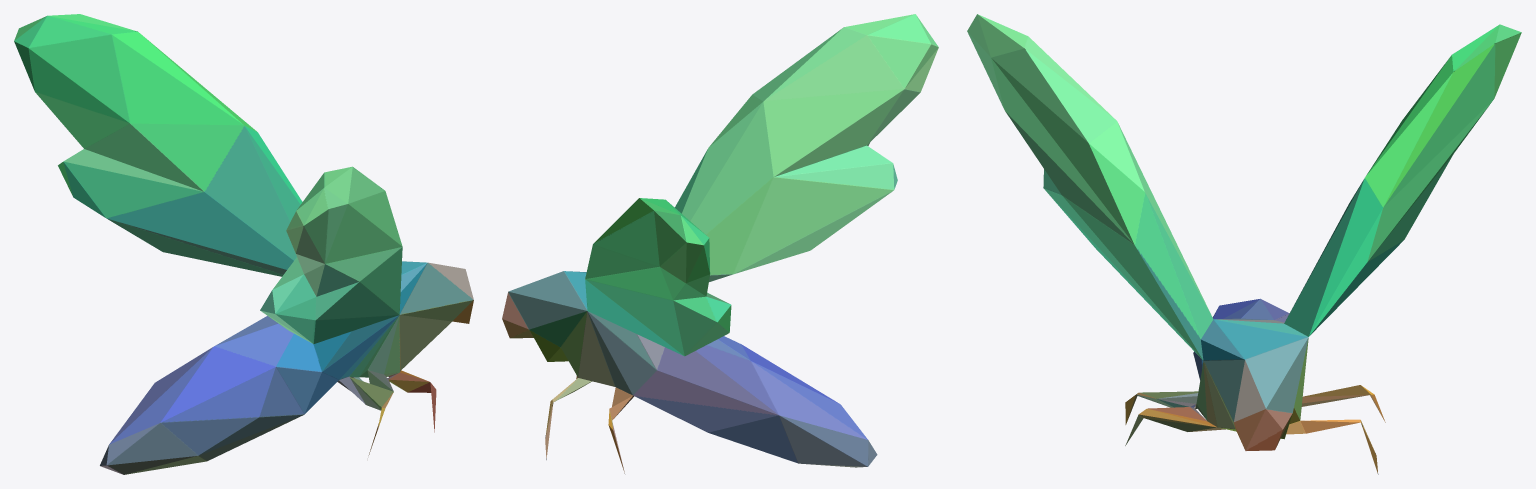
File: fly.fbx
3 renders of one model, left to right at view 1: azimuth 30°, elevation 25°; view 2: azimuth 150°, elevation 25°; view 3: azimuth 270°, elevation 25°, orthographic. The views are drawn at different scales.
Visible parts, largest first — view 1: Mesh_0; view 2: Mesh_0; view 3: Mesh_0.
Part boxes in pixels (x1,y1,x2,y2): Mesh_0: [14, 14, 473, 474]; Mesh_0: [502, 14, 938, 473]; Mesh_0: [967, 14, 1521, 474].
Bounding box in the file's own units: 99.69 × 94.33 × 128.
1 material, 1 textured.
